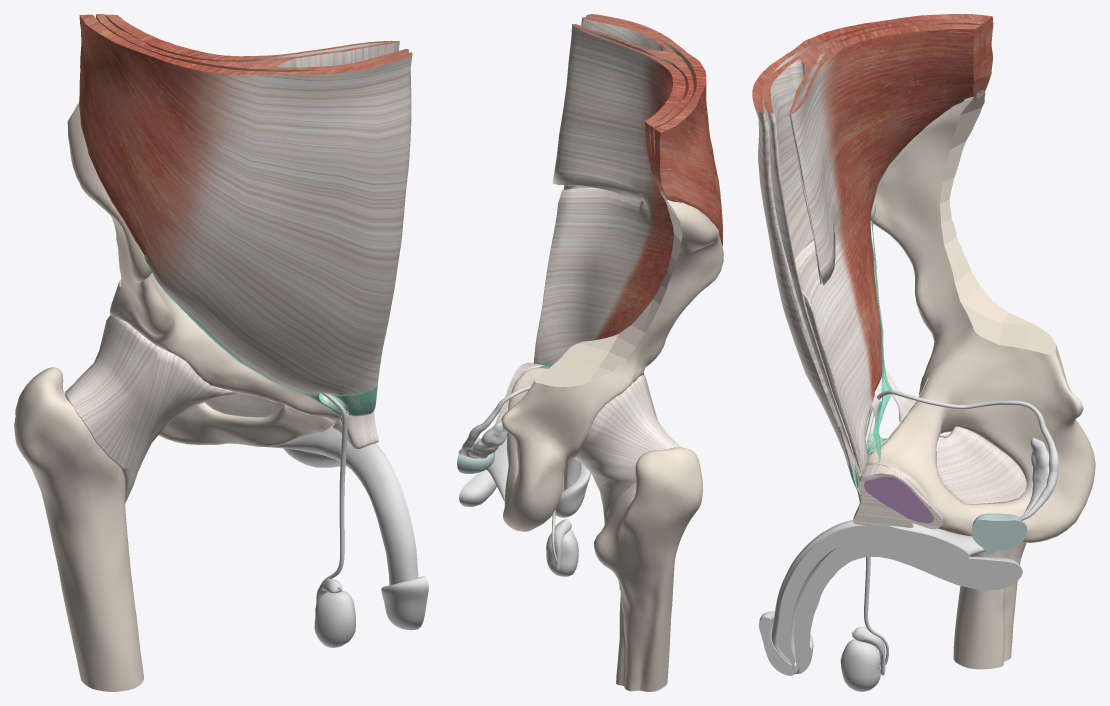
File: inguinal-ligament.glb
3 renders of one model, left to right at view 1: azimuth 30°, elevation 25°; view 2: azimuth 150°, elevation 25°; view 3: azimuth 270°, elevation 25°, orthographic. The views are drawn at different scales.
Parts seen in each view (by area): view 1: External abdominal oblique muscle.r, Femur.r, Hip bone.r, Hip joint capsule.r, Corpus cavernosum of penis, Internal abdominal oblique muscle.r, Testis.r, Transversus abdominis muscle.r, Glans penis, Obturator membrane.r, Ductus deferens.r, Suspensory ligament of penis (+1 smaller); view 2: Transversus abdominis muscle.r, Hip bone.r, Femur.r, External abdominal oblique muscle.r, Hip joint capsule.r, Internal abdominal oblique muscle.r, Corpus cavernosum of penis, Testis.r, Corpus spongiosum of penis, Glans penis, Ductus deferens.r, Seminal gland.r (+3 smaller); view 3: Hip bone.r, Transversus abdominis muscle.r, Internal abdominal oblique muscle.r, External abdominal oblique muscle.r, Corpus spongiosum of penis, Corpus cavernosum of penis, Femur.r, Obturator membrane.r, Ductus deferens.r, Prostate, Interpubic disc, Testis.r (+6 smaller).
Part boxes in pixels (bbox=[...]): External abdominal oblique muscle.r: bbox=[79, 14, 412, 421]; Femur.r: bbox=[14, 367, 143, 691]; Hip bone.r: bbox=[67, 103, 345, 447]; Hip joint capsule.r: bbox=[65, 315, 236, 502]; Corpus cavernosum of penis: bbox=[271, 424, 418, 585]; Internal abdominal oblique muscle.r: bbox=[96, 14, 408, 71]; Testis.r: bbox=[314, 590, 355, 647]; Transversus abdominis muscle.r: bbox=[105, 14, 399, 61]; Glans penis: bbox=[381, 576, 428, 630]; Obturator membrane.r: bbox=[204, 392, 284, 417]; Ductus deferens.r: bbox=[320, 393, 347, 584]; Suspensory ligament of penis: bbox=[333, 410, 378, 448]; Transversus abdominis muscle.r: bbox=[534, 24, 685, 365]; Hip bone.r: bbox=[501, 191, 723, 531]; Femur.r: bbox=[594, 447, 702, 691]; External abdominal oblique muscle.r: bbox=[533, 14, 722, 362]; Hip joint capsule.r: bbox=[574, 375, 681, 524]; Internal abdominal oblique muscle.r: bbox=[563, 17, 693, 194]; Corpus cavernosum of penis: bbox=[486, 436, 581, 501]; Testis.r: bbox=[546, 529, 578, 576]; Corpus spongiosum of penis: bbox=[459, 470, 564, 506]; Glans penis: bbox=[555, 463, 590, 517]; Ductus deferens.r: bbox=[458, 353, 564, 563]; Seminal gland.r: bbox=[463, 421, 507, 458]; Hip bone.r: bbox=[866, 89, 1095, 542]; Transversus abdominis muscle.r: bbox=[790, 24, 981, 476]; Internal abdominal oblique muscle.r: bbox=[762, 19, 986, 477]; External abdominal oblique muscle.r: bbox=[752, 14, 993, 495]; Corpus spongiosum of penis: bbox=[793, 539, 1022, 668]; Corpus cavernosum of penis: bbox=[771, 520, 984, 664]; Femur.r: bbox=[953, 542, 1026, 669]; Obturator membrane.r: bbox=[936, 426, 1026, 504]; Ductus deferens.r: bbox=[857, 390, 1058, 664]; Prostate: bbox=[972, 513, 1027, 555]; Interpubic disc: bbox=[864, 476, 934, 523]; Testis.r: bbox=[840, 639, 880, 691].
Bounding box in the file's own units: 0.1482 × 0.3384 × 0.1676.
8 materials, 3 textured.
